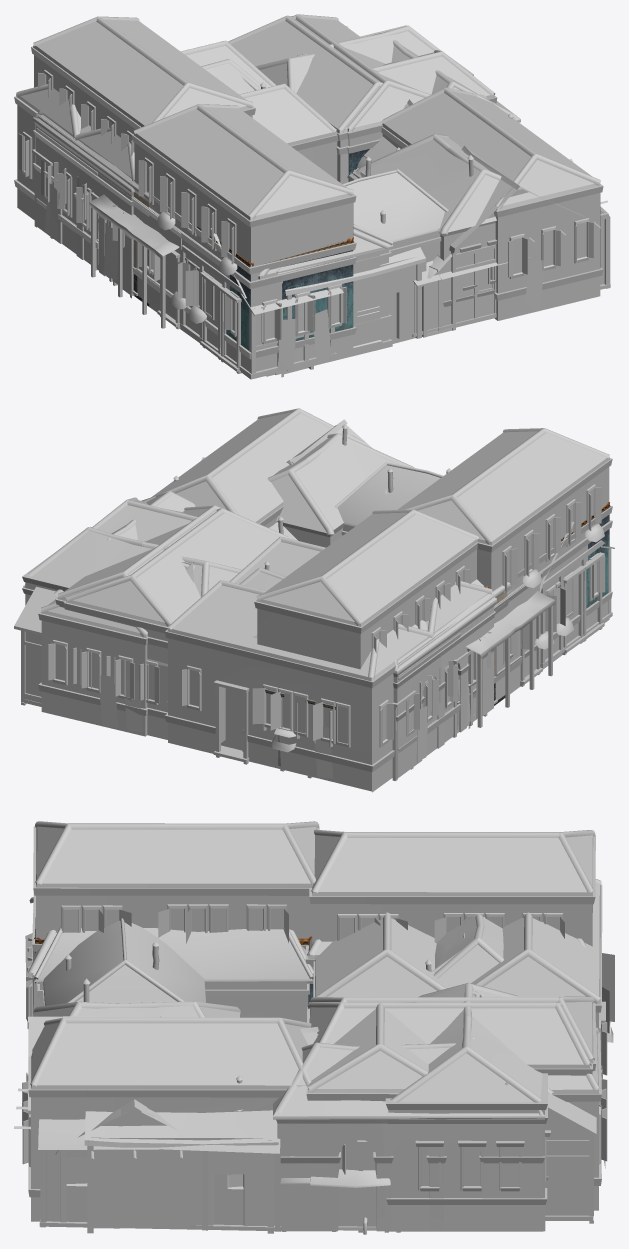
The model's file is jornalero.gltf.
The picture shows the model from 3 angles, top to bottom: view 1: azimuth 30°, elevation 25°; view 2: azimuth 150°, elevation 25°; view 3: azimuth 270°, elevation 25°; orthographic projection. The views are drawn at different scales.
Parts seen in each view (by area): view 1: _j5_lod0, _j3b_lod0, _j1_lod0, _j7_lod0, _j2_lod0, _j4_lod0, _j3_lod0, _j6_lod0; view 2: _j1_lod0, _j5_lod0, _j3b_lod0, _j7_lod0, _j2_lod0, _j4_lod0, _j3_lod0, _j6_lod0; view 3: _j5_lod0, _j4_lod0, _j3b_lod0, _j3_lod0, _j2_lod0, _j1_lod0, _j7_lod0, _j6_lod0.
Boxes of the visible parts, box(x1,y1,x2,y2) form: _j5_lod0: box(31, 14, 603, 369); _j3b_lod0: box(33, 104, 451, 379); _j1_lod0: box(14, 26, 583, 378); _j7_lod0: box(228, 15, 501, 374); _j2_lod0: box(88, 32, 610, 377); _j4_lod0: box(36, 39, 520, 377); _j3_lod0: box(37, 25, 607, 365); _j6_lod0: box(37, 54, 425, 370); _j1_lod0: box(38, 419, 612, 792); _j5_lod0: box(55, 408, 478, 778); _j3b_lod0: box(278, 428, 612, 778); _j7_lod0: box(63, 433, 414, 778); _j2_lod0: box(14, 461, 555, 751); _j4_lod0: box(23, 475, 614, 761); _j3_lod0: box(22, 457, 609, 705); _j6_lod0: box(54, 468, 562, 755); _j5_lod0: box(22, 829, 599, 1232); _j4_lod0: box(25, 933, 544, 1233); _j3b_lod0: box(27, 821, 319, 1028); _j3_lod0: box(26, 914, 550, 1234); _j2_lod0: box(14, 918, 596, 1231); _j1_lod0: box(26, 879, 614, 1210); _j7_lod0: box(33, 927, 602, 1109); _j6_lod0: box(32, 933, 553, 1094).
Bounding box in the file's own units: 2.95 × 1.38 × 3.22.
